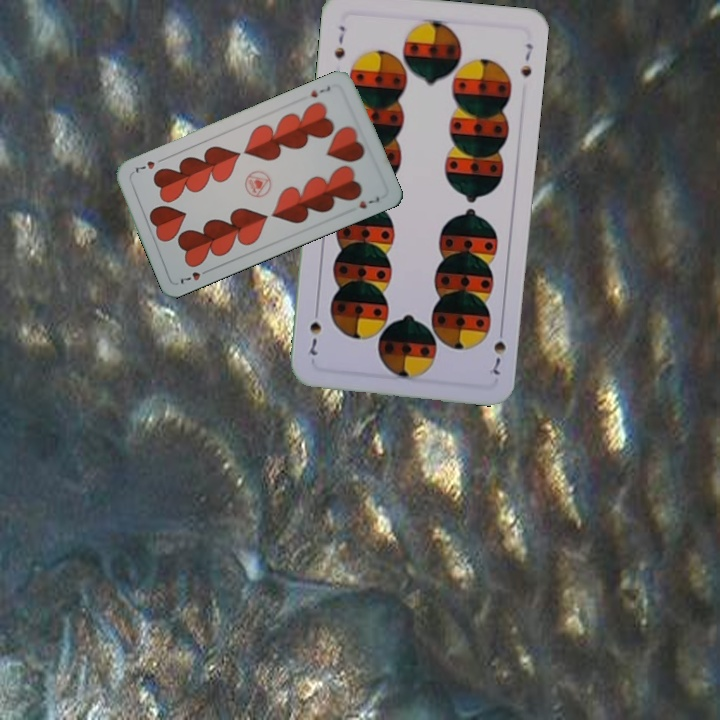H7: (176, 265, 213, 287), (306, 82, 333, 100)
S7: (485, 321, 509, 378), (330, 22, 348, 62)
